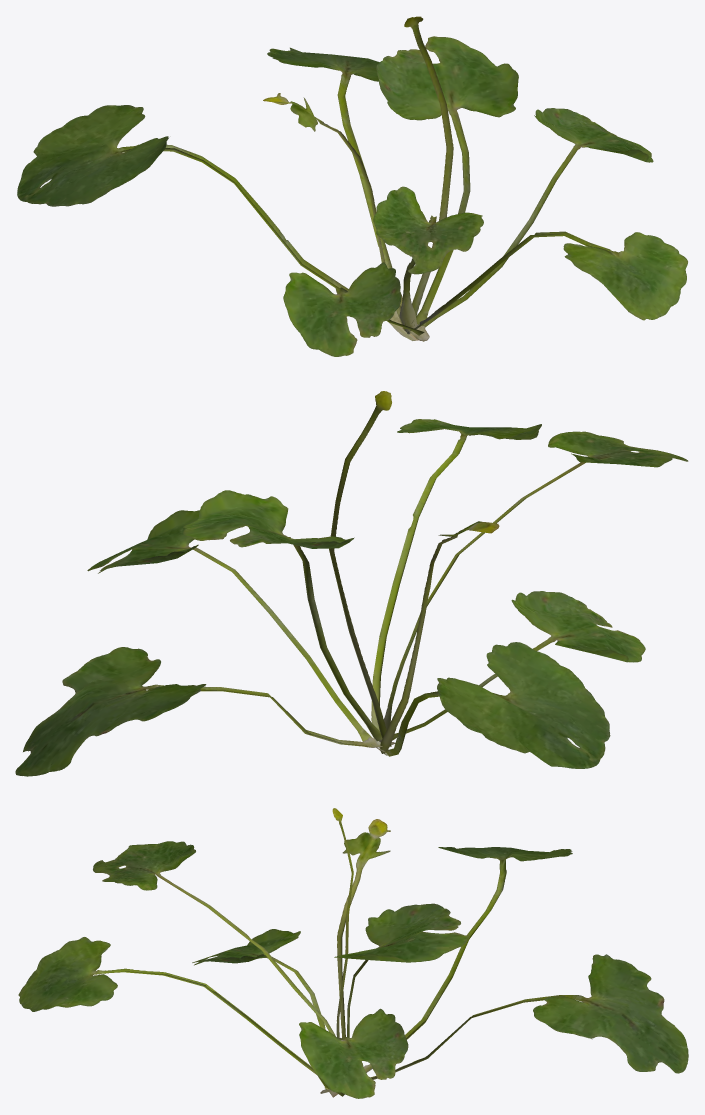
The picture shows the model from 3 angles, top to bottom: view 1: azimuth 30°, elevation 25°; view 2: azimuth 150°, elevation 25°; view 3: azimuth 270°, elevation 25°; orthographic projection. The views are drawn at different scales.
Visible parts, largest first — view 1: celandine_01__b_lod0; view 2: celandine_01__b_lod0; view 3: celandine_01__b_lod0.
Part boxes in pixels (x1,y1,x2,y2): celandine_01__b_lod0: (17,16,687,356); celandine_01__b_lod0: (15,391,688,776); celandine_01__b_lod0: (18,808,688,1098).
Size of the model in its own units: 0.2517 by 0.1445 by 0.3067.
1 material, 1 textured.
